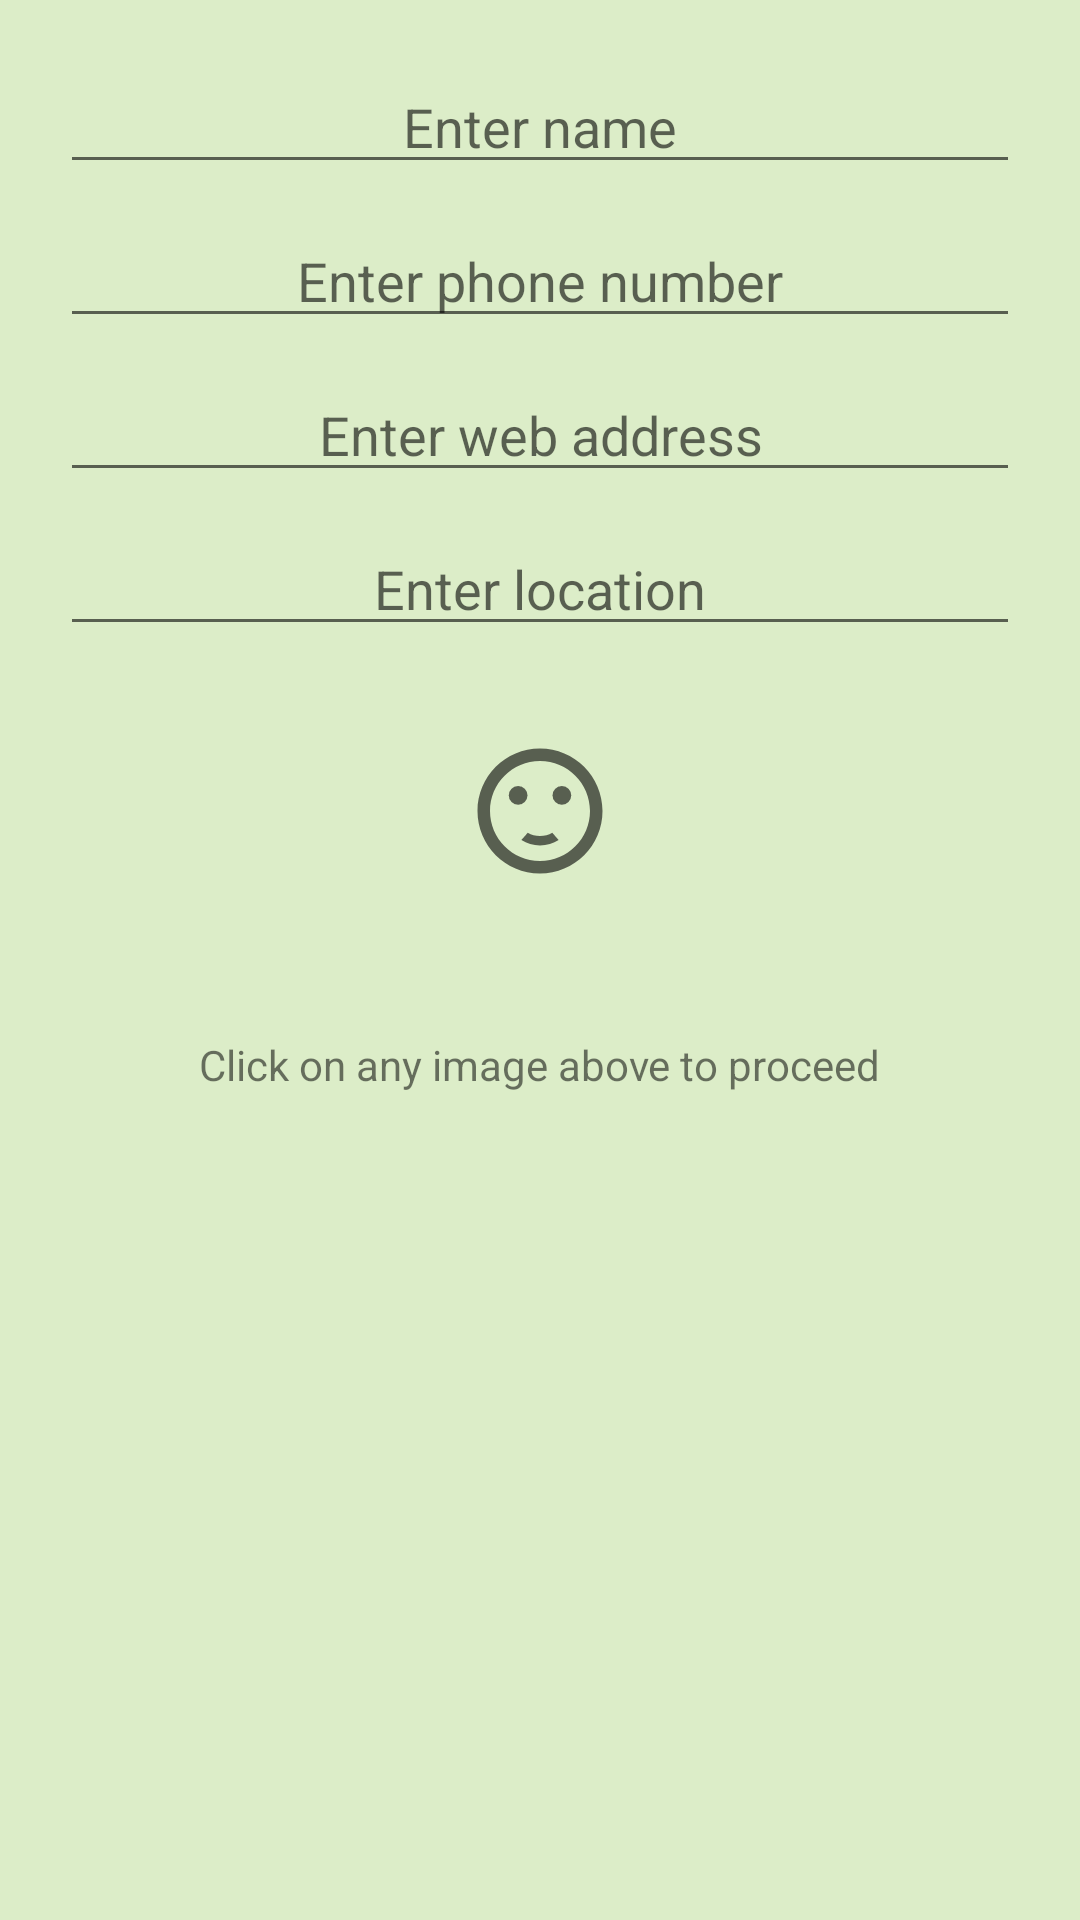

Where icons sit on this 1080*1920 app screen, as (x1, y1, x2, y2):
okay: (477, 748, 603, 874)
